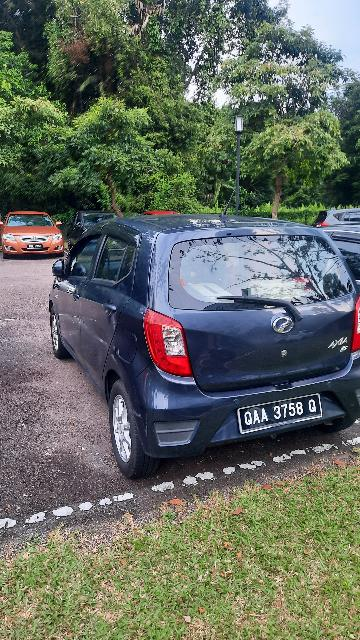License_Plate: (226, 388, 337, 438)
car: (43, 216, 360, 486), (1, 205, 65, 260)
